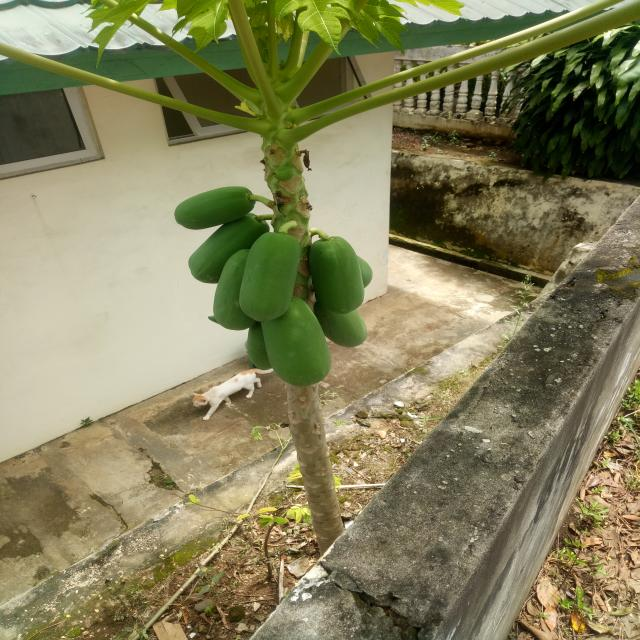Pepaya unrippen: (229, 230, 309, 316), (259, 318, 340, 392), (310, 234, 362, 324), (182, 220, 246, 287), (169, 184, 262, 225)
